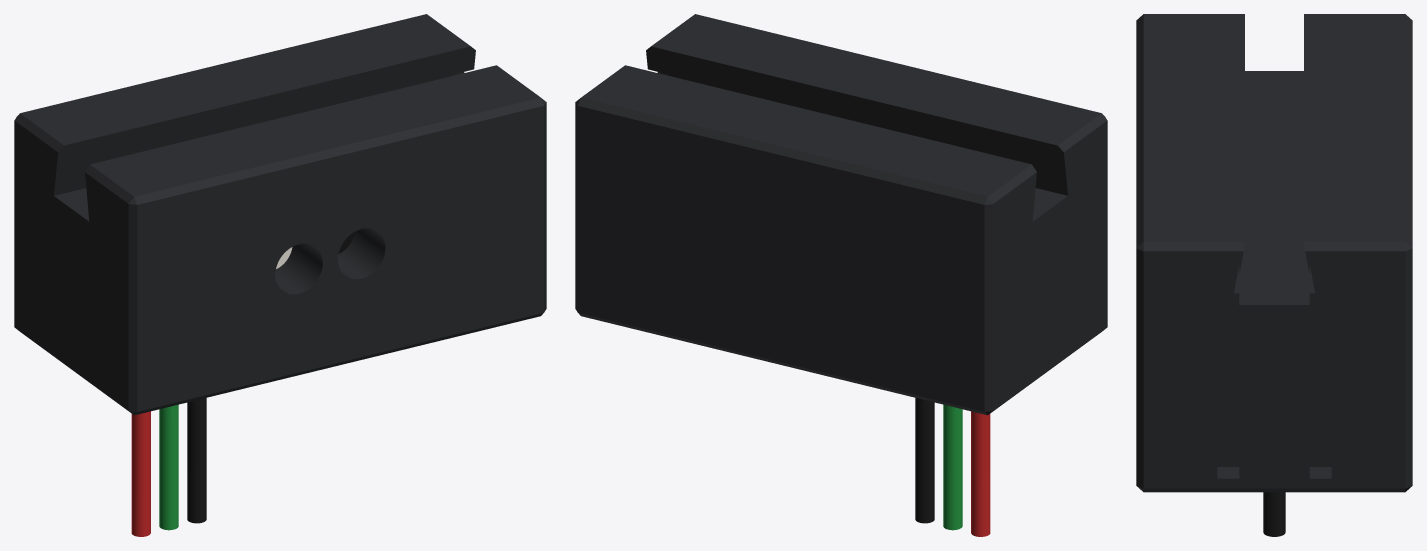
The model's file is colour_sensor.glb.
The picture shows the model from 3 angles, left to right: view 1: azimuth 30°, elevation 25°; view 2: azimuth 150°, elevation 25°; view 3: azimuth 270°, elevation 25°; orthographic projection. The views are drawn at different scales.
Parts seen in each view (by area): view 1: housing, wire_black, wire_red, wire_green; view 2: housing, wire_black, wire_red, wire_green; view 3: housing, wire_black.
Part boxes in pixels (x1,y1,x2,y2): housing: (14,14,546,415); wire_black: (187,398,206,523); wire_red: (131,411,150,536); wire_green: (159,404,178,530); housing: (575,14,1107,415); wire_black: (915,398,934,523); wire_red: (971,411,990,536); wire_green: (943,404,962,530); housing: (1136,14,1412,492); wire_black: (1263,492,1285,536).
Size of the model in its own units: 0.03 by 0.027 by 0.015.
